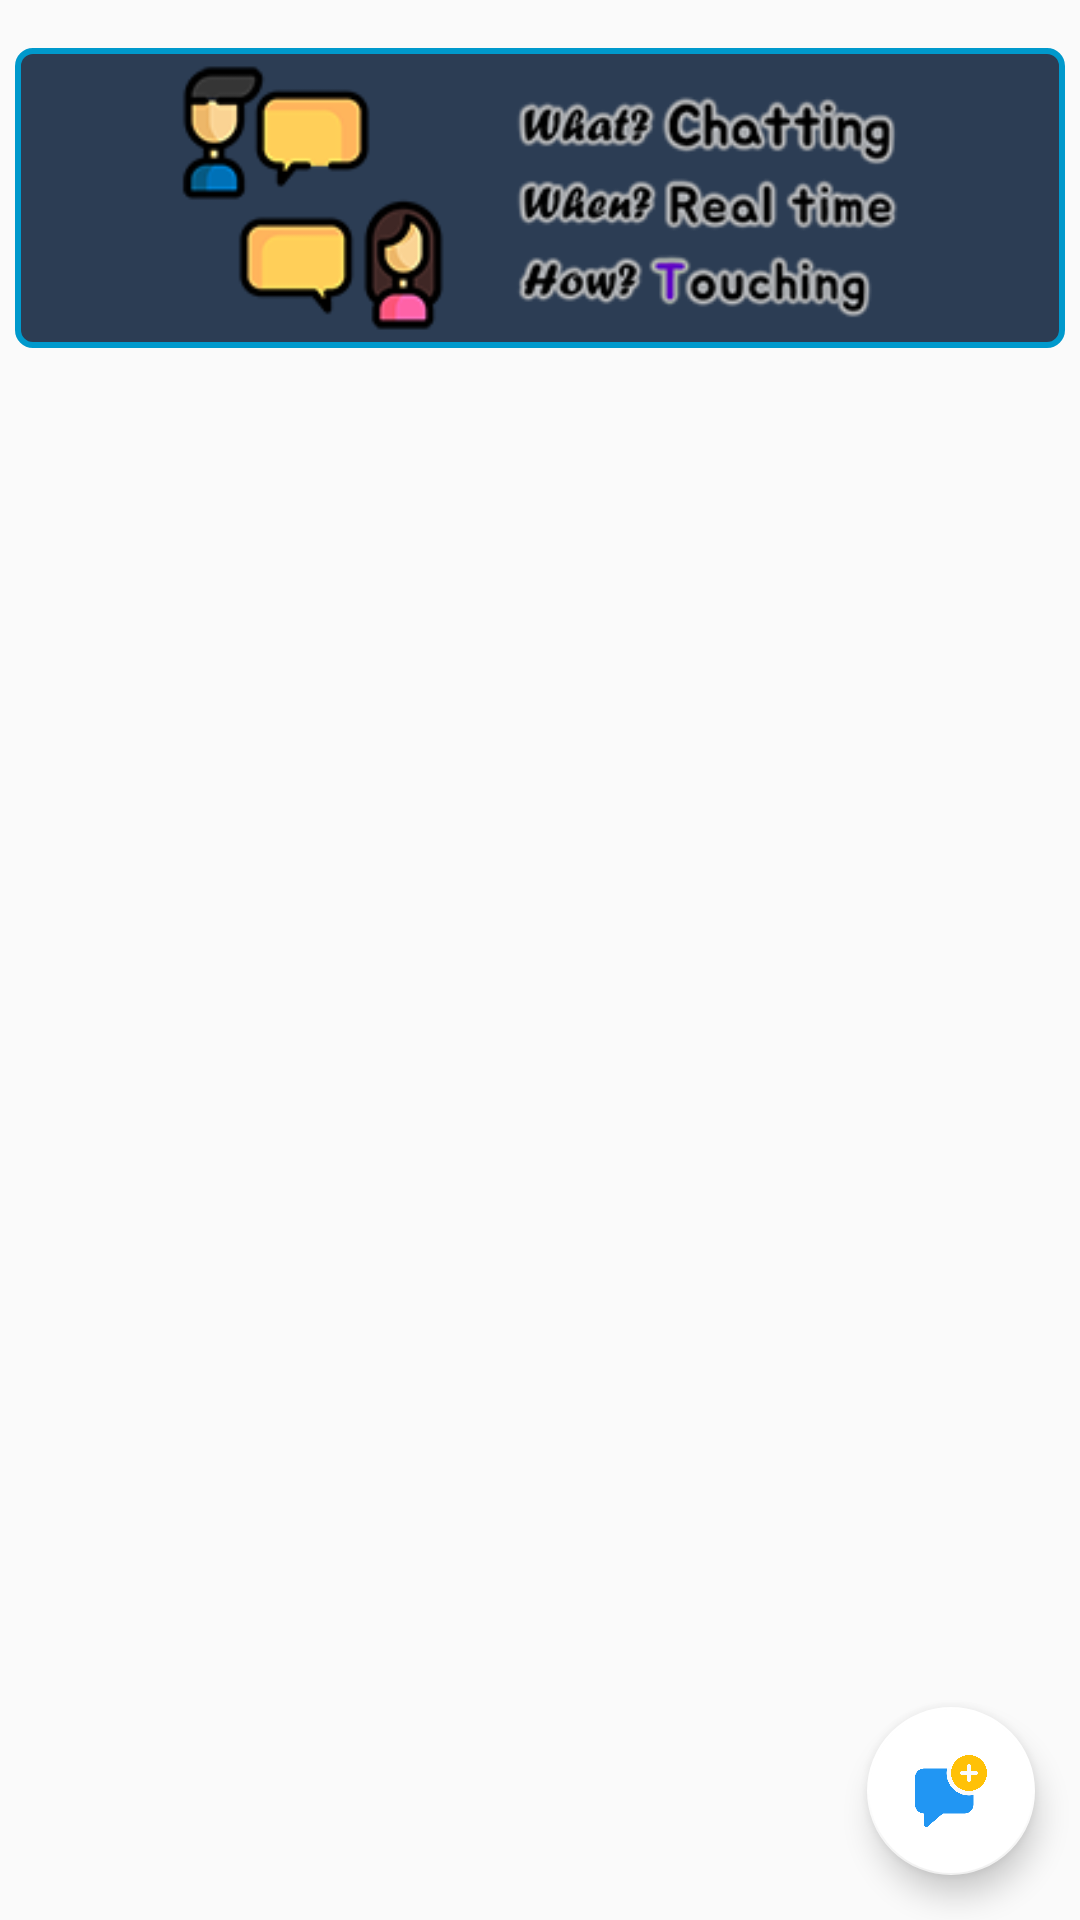

Screen size 1080x1920. Icon name, then its center in pixels as [x,y]:
chat fragment room create: [951,1791]
